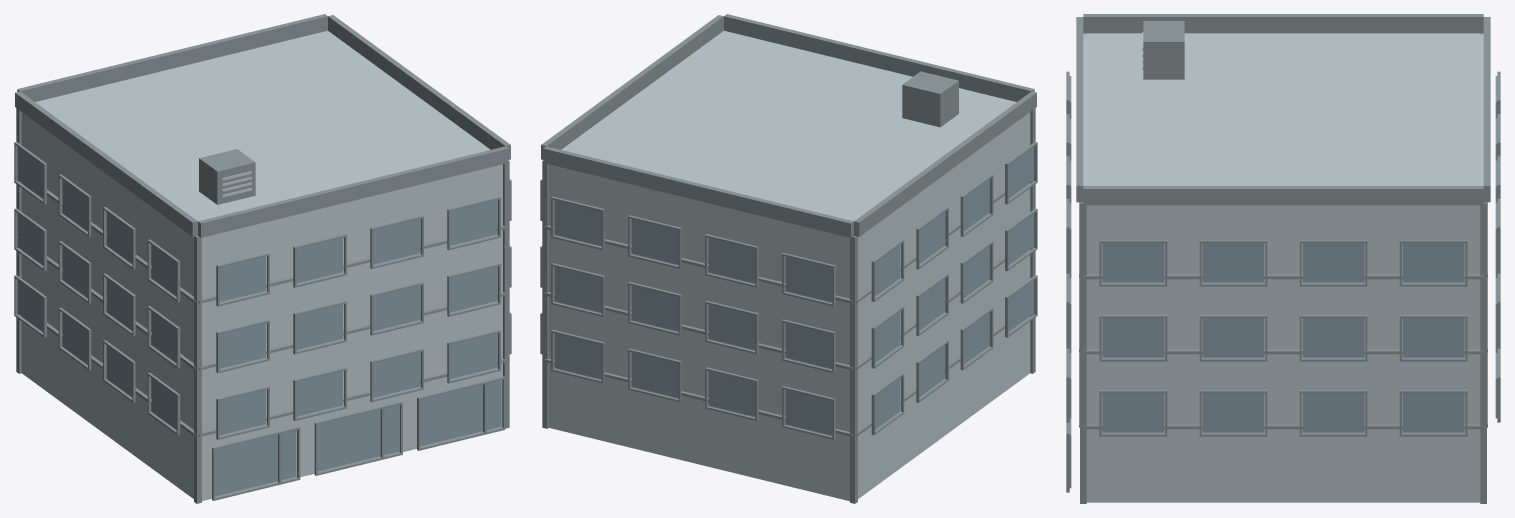
File: lot_2x2_slab.glb
The picture shows the model from 3 angles, left to right: view 1: azimuth 30°, elevation 25°; view 2: azimuth 150°, elevation 25°; view 3: azimuth 270°, elevation 25°; orthographic projection. The views are drawn at different scales.
Visible parts, largest first — view 1: lot_2x2_slab; view 2: lot_2x2_slab; view 3: lot_2x2_slab.
Part boxes in pixels (box(x1,y1,x2,y2)): lot_2x2_slab: box(14, 14, 511, 503); lot_2x2_slab: box(540, 14, 1037, 503); lot_2x2_slab: box(1066, 14, 1500, 503).
Size of the model in its own units: 15.74 by 13.5 by 15.74.
